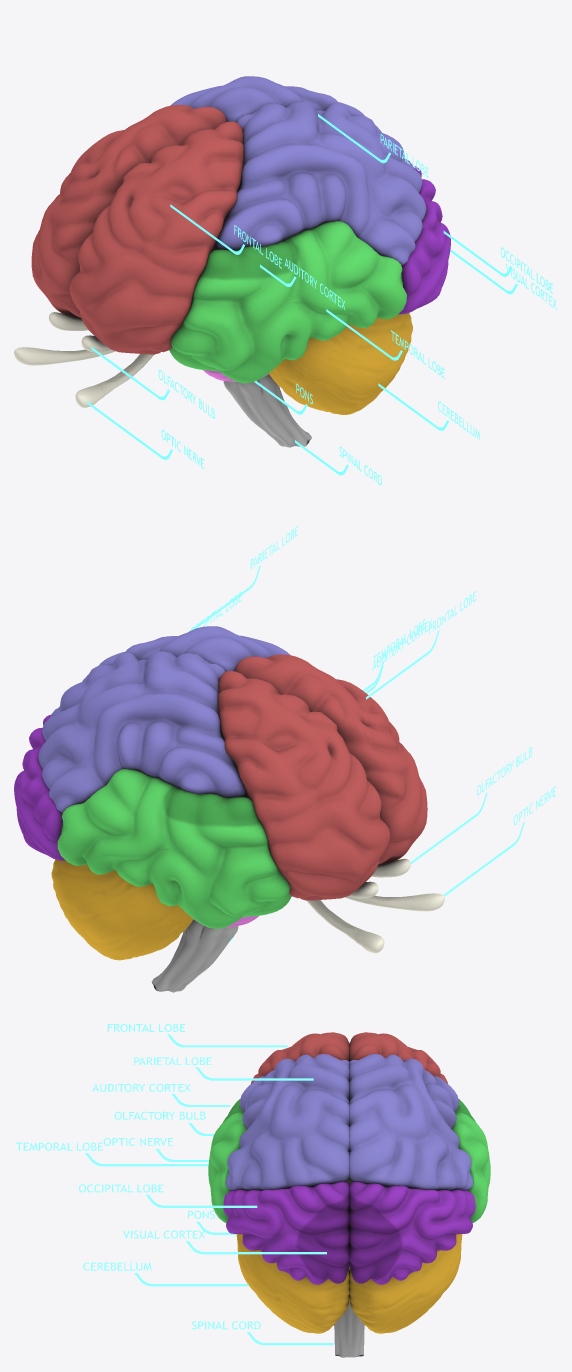
The model's file is brain_diagram.glb.
3 renders of one model, top to bottom at view 1: azimuth 30°, elevation 25°; view 2: azimuth 150°, elevation 25°; view 3: azimuth 270°, elevation 25°, orthographic. The views are drawn at different scales.
Visible parts, largest first — view 1: Frontal_2, Parietal_5, Temporal_6, Cerebellum_1, brainstem_Nerves_0, Labels_3, Occipital_4; view 2: Frontal_2, Parietal_5, Temporal_6, Cerebellum_1, brainstem_Nerves_0, Occipital_4, Labels_3; view 3: Parietal_5, Occipital_4, Cerebellum_1, Labels_3, Temporal_6, Frontal_2, brainstem_Nerves_0.
Boxes of the visible parts, bbox=[...] form: Frontal_2: bbox=[31, 104, 243, 354]; Parietal_5: bbox=[170, 76, 426, 265]; Temporal_6: bbox=[169, 220, 406, 383]; Cerebellum_1: bbox=[269, 313, 412, 414]; brainstem_Nerves_0: bbox=[14, 312, 311, 447]; Labels_3: bbox=[87, 114, 556, 485]; Occipital_4: bbox=[398, 166, 450, 314]; Frontal_2: bbox=[218, 654, 427, 900]; Parietal_5: bbox=[38, 626, 290, 812]; Temporal_6: bbox=[57, 768, 291, 928]; Cerebellum_1: bbox=[51, 859, 193, 960]; brainstem_Nerves_0: bbox=[151, 858, 444, 992]; Occipital_4: bbox=[14, 715, 65, 860]; Labels_3: bbox=[189, 526, 555, 942]; Parietal_5: bbox=[225, 1054, 473, 1190]; Occipital_4: bbox=[223, 1181, 475, 1284]; Cerebellum_1: bbox=[236, 1234, 462, 1333]; Labels_3: bbox=[16, 1024, 333, 1345]; Temporal_6: bbox=[208, 1099, 490, 1222]; Frontal_2: bbox=[251, 1032, 447, 1083]; brainstem_Nerves_0: bbox=[334, 1151, 364, 1357].
Bounding box in the file's own units: 1.43 × 1.38 × 2.24.
Materials: 2 (2 with a texture image).
